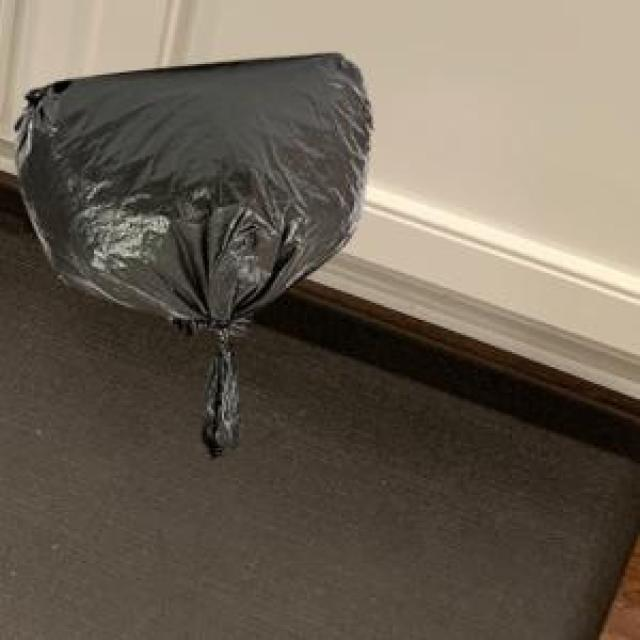Vinyl: (41, 28, 358, 368)
